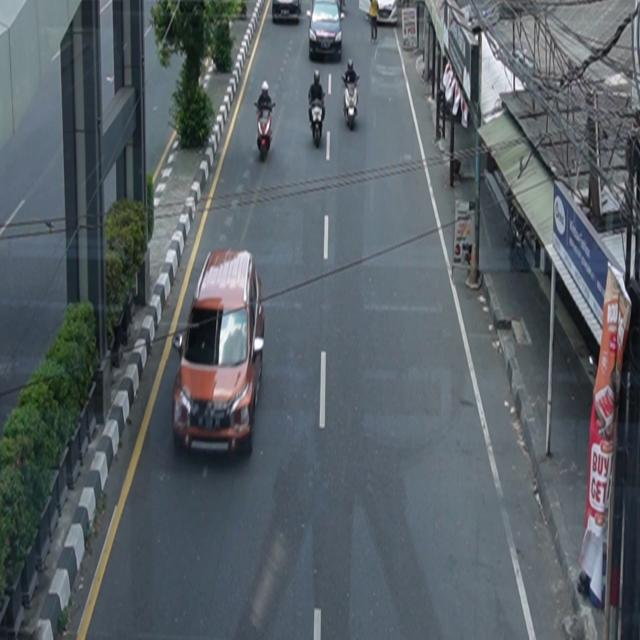car: (173, 248, 266, 458), (307, 1, 346, 63), (273, 1, 302, 24)
